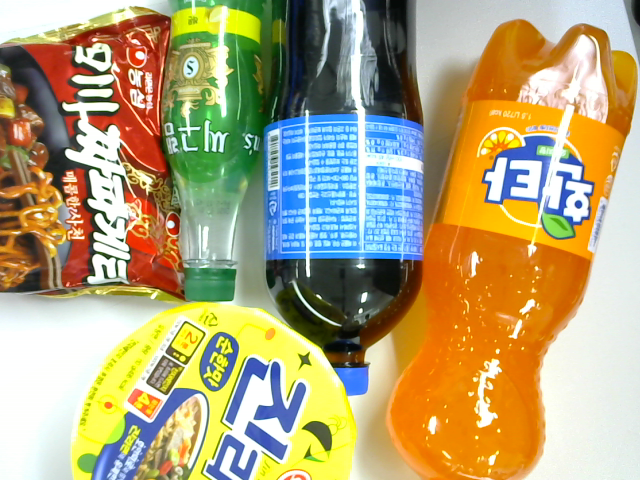Hwanta_Orange_1.5L: (404, 34, 630, 478)
Jinlamyeon_Mild_Taste_Large_Cup: (69, 303, 359, 480)
Pepsi_Cola_1.5L: (242, 1, 439, 375)
Seagram_Lemon_Carbonated_Water: (156, 1, 278, 297)
Sichuan_Chapaghetti: (1, 24, 181, 296)
